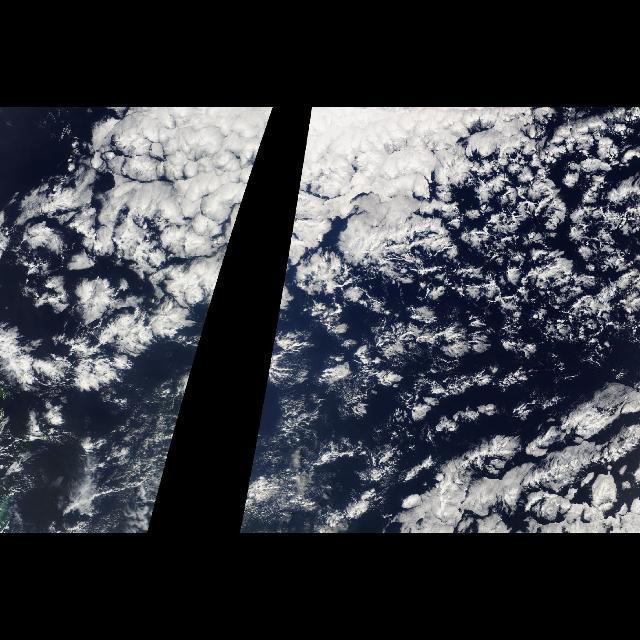Flower: (444, 126, 638, 387), (5, 170, 188, 402), (400, 396, 640, 534)
Gravel: (310, 233, 614, 449)
